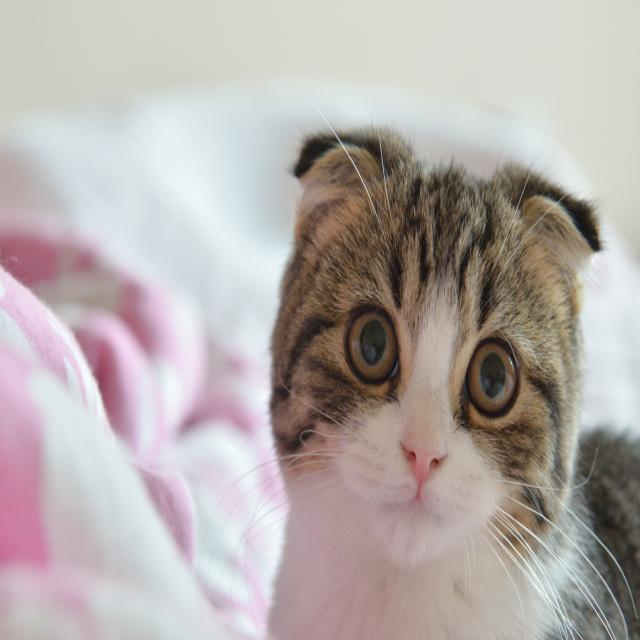Scottish Fold: (260, 117, 640, 640)
